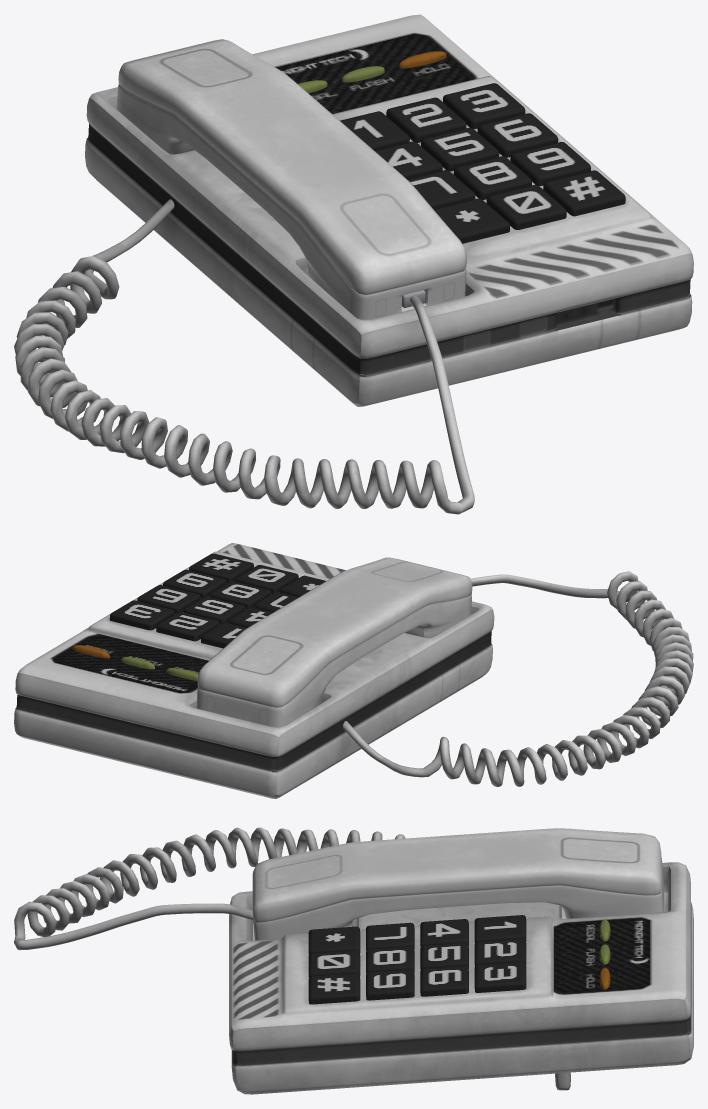
The model's file is Phone.fbx.
The picture shows the model from 3 angles, top to bottom: view 1: azimuth 30°, elevation 25°; view 2: azimuth 150°, elevation 25°; view 3: azimuth 270°, elevation 25°; orthographic projection. The views are drawn at different scales.
Parts seen in each view (by area): view 1: PhoneBody, receiver, Cable, Numbers, Lights; view 2: PhoneBody, receiver, Cable, Numbers, Lights; view 3: PhoneBody, receiver, Numbers, Cable, Lights.
Boxes of the visible parts, x1,y1,x2,y2 form: PhoneBody: (85, 14, 693, 406); receiver: (117, 39, 466, 319); Cable: (14, 199, 474, 514); Numbers: (340, 83, 625, 243); Lights: (298, 51, 446, 93); PhoneBody: (14, 543, 494, 798); receiver: (196, 557, 472, 726); Cable: (343, 571, 693, 786); Numbers: (109, 553, 325, 648); Lights: (72, 645, 198, 680); PhoneBody: (229, 862, 693, 1094); receiver: (252, 828, 663, 940); Numbers: (308, 915, 526, 1004); Cable: (14, 827, 405, 950); Lights: (599, 919, 610, 989).
Bounding box in the file's own units: 289 × 80.25 × 350.
